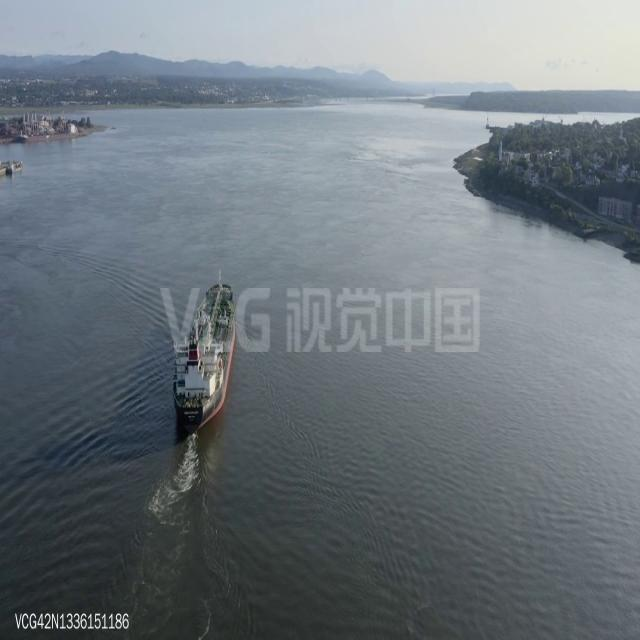cargoship: (172, 272, 238, 426)
